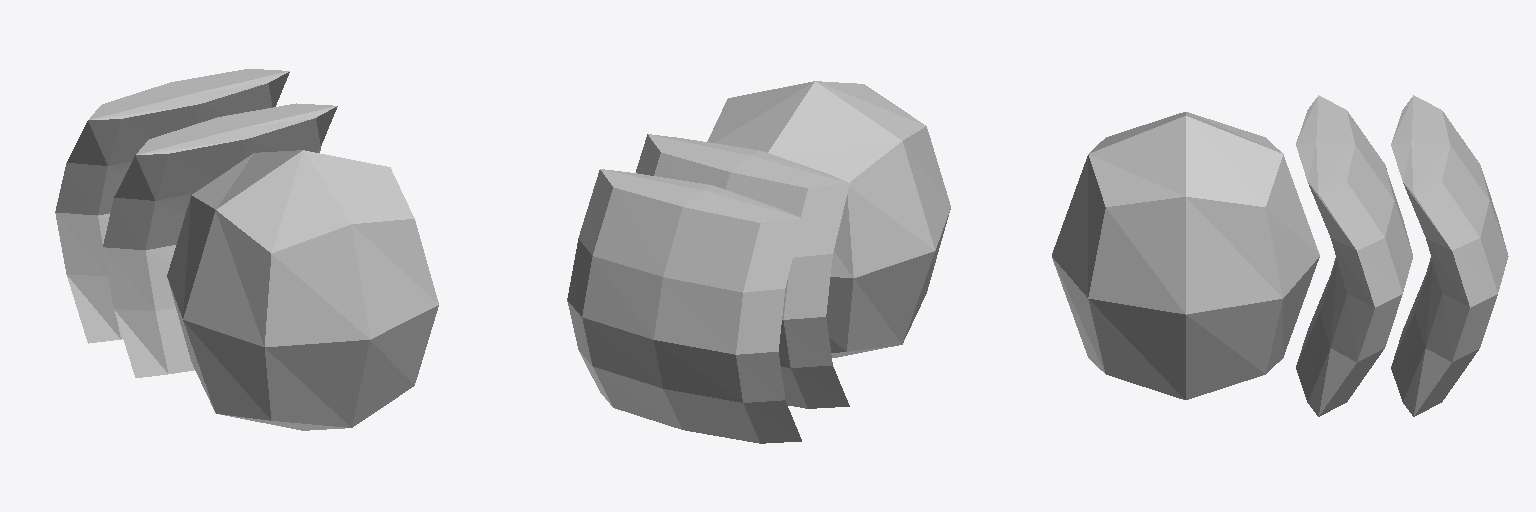
File: slow.obj
3 views of the same model, side by side, from view 1: azimuth 30°, elevation 25°; view 2: azimuth 150°, elevation 25°; view 3: azimuth 270°, elevation 25° (orthographic).
Parts seen in each view (by area): view 1: Cube; view 2: Cube; view 3: Cube.
Part boxes in pixels (bbox=[...]): Cube: bbox=[55, 69, 438, 430]; Cube: bbox=[567, 81, 950, 443]; Cube: bbox=[1052, 95, 1508, 416].
Bounding box in the file's own units: 1.38 × 1.54 × 2.28.